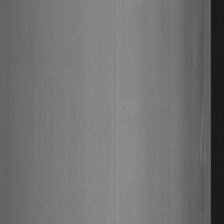silk_spot: (184, 82, 208, 168)
